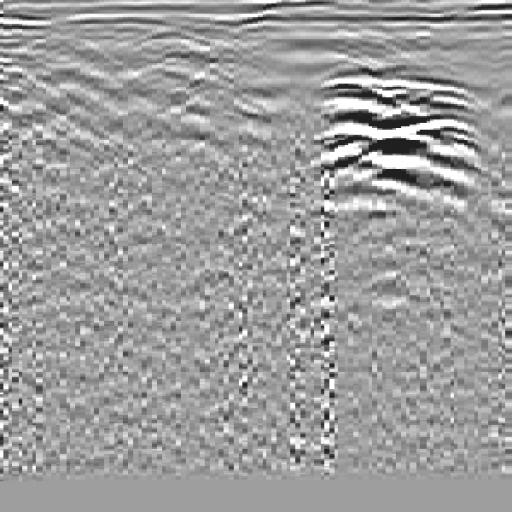metalic: (309, 42, 484, 239)
